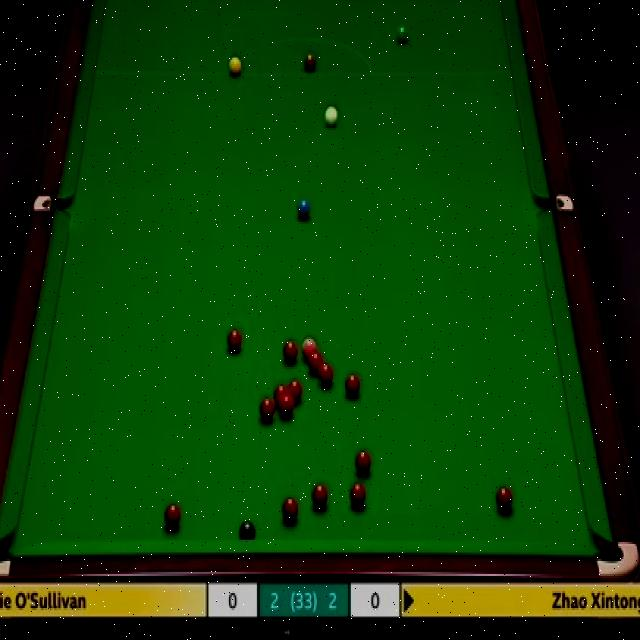black-ball: (241, 518, 259, 544)
blue-ball: (298, 200, 312, 220)
brown-ball: (302, 52, 316, 73)
green-ball: (394, 24, 410, 46)
pink-ball: (301, 335, 317, 359)
red-ball: (353, 448, 372, 477), (349, 480, 367, 510), (495, 486, 513, 515), (280, 497, 300, 523), (163, 501, 181, 528), (225, 326, 242, 354), (312, 481, 329, 508), (318, 364, 334, 390), (345, 372, 361, 398), (282, 338, 298, 363), (259, 397, 275, 421), (279, 392, 294, 417), (289, 378, 304, 403), (307, 352, 324, 372), (274, 384, 289, 402)
white-ball: (323, 103, 340, 129)
yellow-ball: (228, 53, 241, 76)
